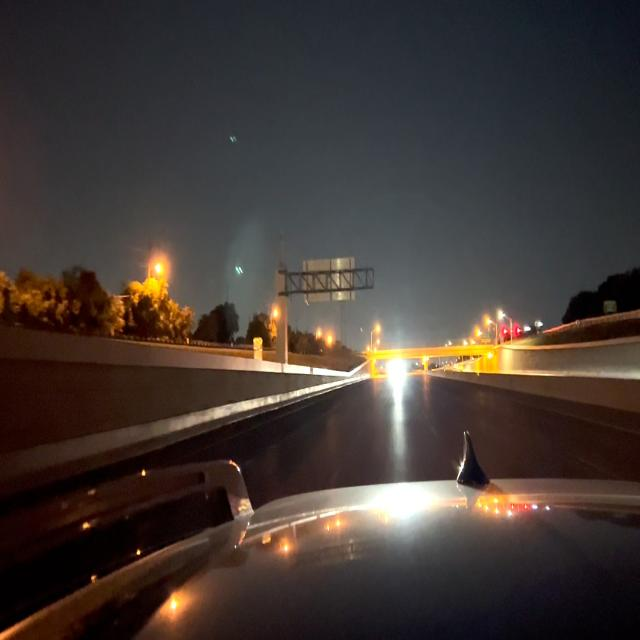back-of-sign: (304, 254, 357, 304)
